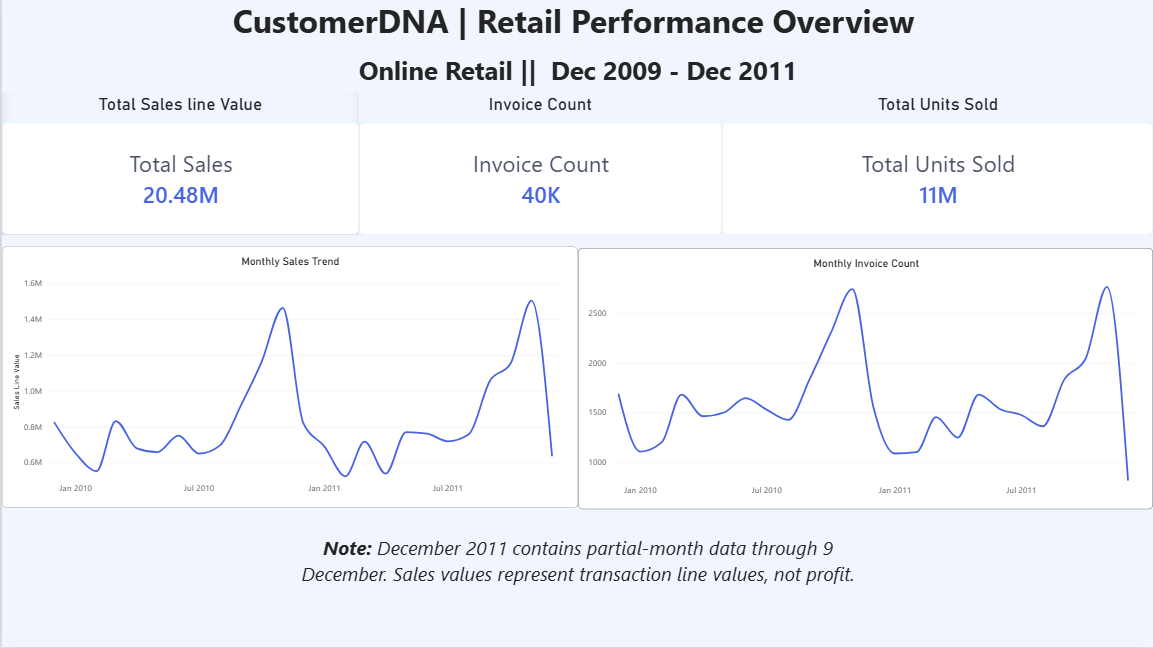

This screenshot's page, from the dashboard's own definition file:
{"tool":"powerbi","page":{"name":"Page 1","canvas":[1920,1080],"ordinal":0},"visuals":[{"type":"lineChart","title":"Monthly Sales Trend","fields":{"Category":["monthly_sales_kpis.Month"],"Y":["Sum(monthly_sales_kpis.Sales_Line_Value)"]},"box":[0,413.4,960,435],"z":0},{"type":"cardVisual","title":"Total Sales line Value","fields":{"Data":["Sum(monthly_sales_kpis.Sales_Line_Value)"]},"box":[0,157.5,595,235],"z":1000},{"type":"cardVisual","title":"Invoice Count","fields":{"Data":["Sum(monthly_sales_kpis.Invoice_Count)"]},"box":[595,157.5,605,235],"z":2000},{"type":"lineChart","title":"Monthly Invoice Count","fields":{"Category":["monthly_sales_kpis.Month"],"Y":["Sum(monthly_sales_kpis.Invoice_Count)"]},"box":[960.8,415.6,960,435],"z":3000},{"type":"textbox","box":[0,0,1920,157.5],"z":4000},{"type":"cardVisual","title":"Total Units Sold","fields":{"Data":["Sum(monthly_sales_kpis.Units_Sold)"]},"box":[1199.3,156.7,720,235],"z":5000},{"type":"textbox","box":[479.2,892.6,960,110],"z":6000}]}

Visuals, with their boxes in screenshot pixels (x1, y1, x2, y2), scaled from the page's 1920x1080 canvas onto the 1153x648 screenshot:
"Monthly Sales Trend" lineChart: [0,248,576,509]
"Total Sales line Value" cardVisual: [0,94,357,236]
"Invoice Count" cardVisual: [357,94,721,236]
"Monthly Invoice Count" lineChart: [577,249,1152,510]
textbox: [0,0,1152,94]
"Total Units Sold" cardVisual: [720,94,1152,235]
textbox: [288,536,864,602]
